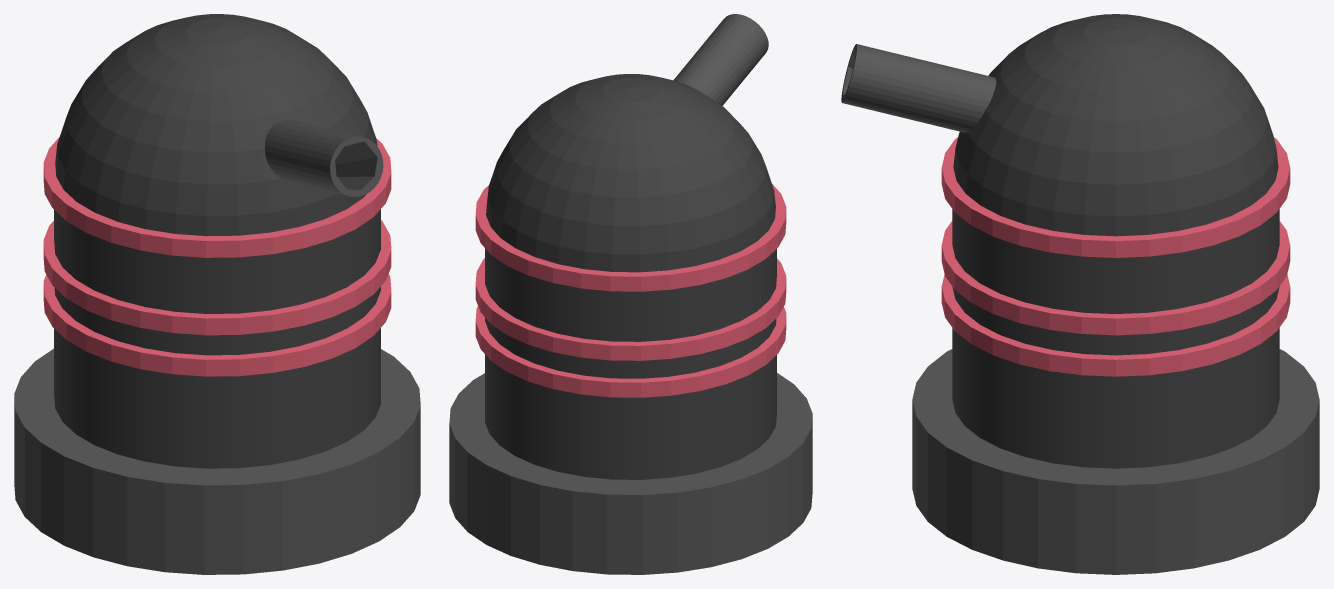
Rendered from bench 1.fbx.
3 views of the same model, side by side, from view 1: azimuth 30°, elevation 25°; view 2: azimuth 150°, elevation 25°; view 3: azimuth 270°, elevation 25° (orthographic). The views are drawn at different scales.
Visible parts, largest first — view 1: Cylinder, Cylinder.001; view 2: Cylinder, Cylinder.001; view 3: Cylinder, Cylinder.001.
Part boxes in pixels (<box>): Cylinder: <box>14,14,420,574</box>; Cylinder.001: <box>265,119,383,196</box>; Cylinder: <box>449,74,812,574</box>; Cylinder.001: <box>673,14,768,105</box>; Cylinder: <box>912,14,1319,574</box>; Cylinder.001: <box>841,44,996,132</box>.
Size of the model in its own units: 249 by 310 by 292.
